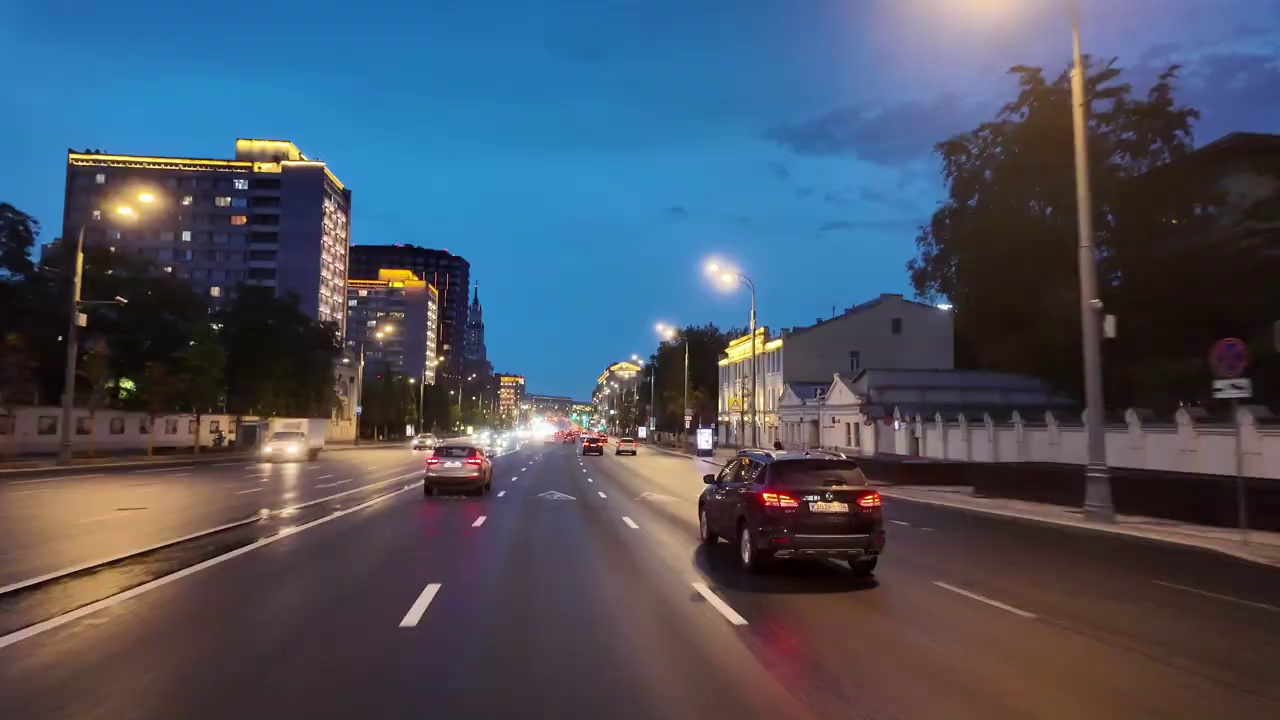acesa: (112, 182, 163, 227), (704, 258, 739, 291)
